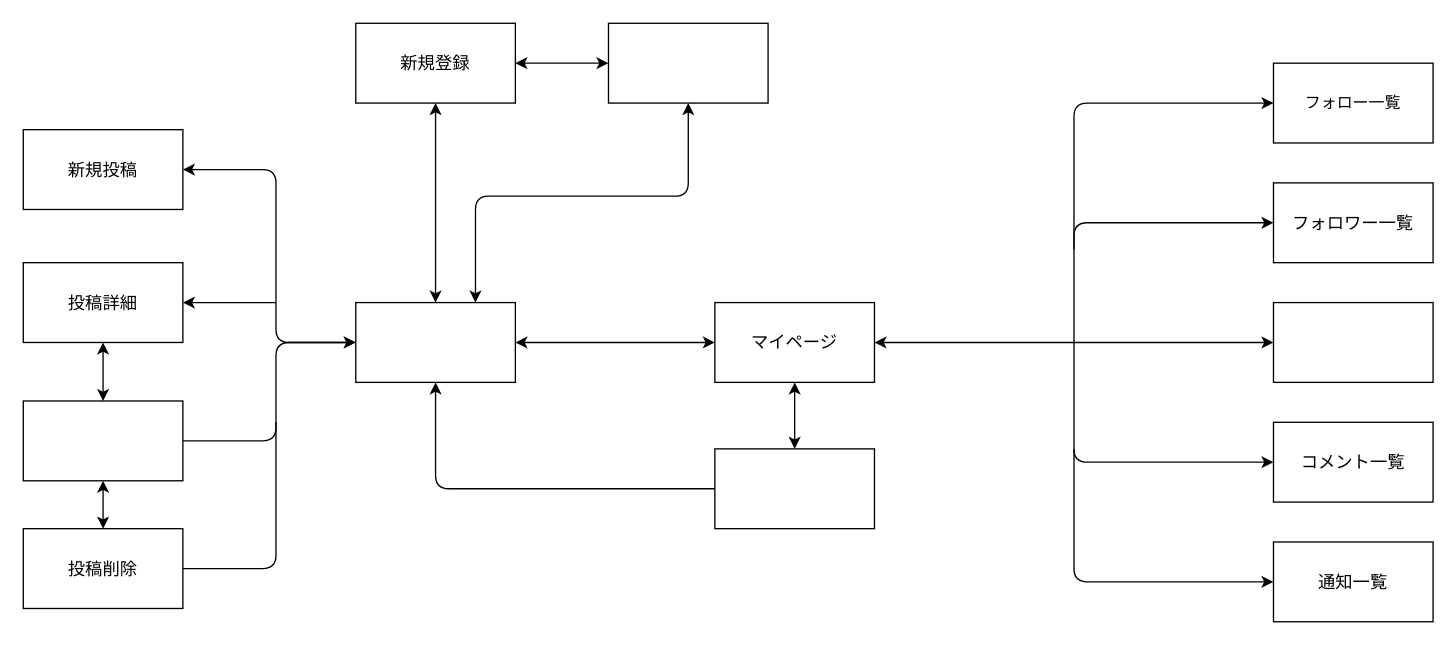
Image size: 1456x645. Some labels were removed from this diagram. The shapes that lost their labels are listed below. From the top down, each one's centre as x and y in pixels, then its label:
At (687,62): "ログイン".
At (434,341): "投稿一覧 （トップページ）".
At (1352,341): "お気に入り一覧".
At (102,440): "投稿編集".
At (794,488): "プロフィール編集".
